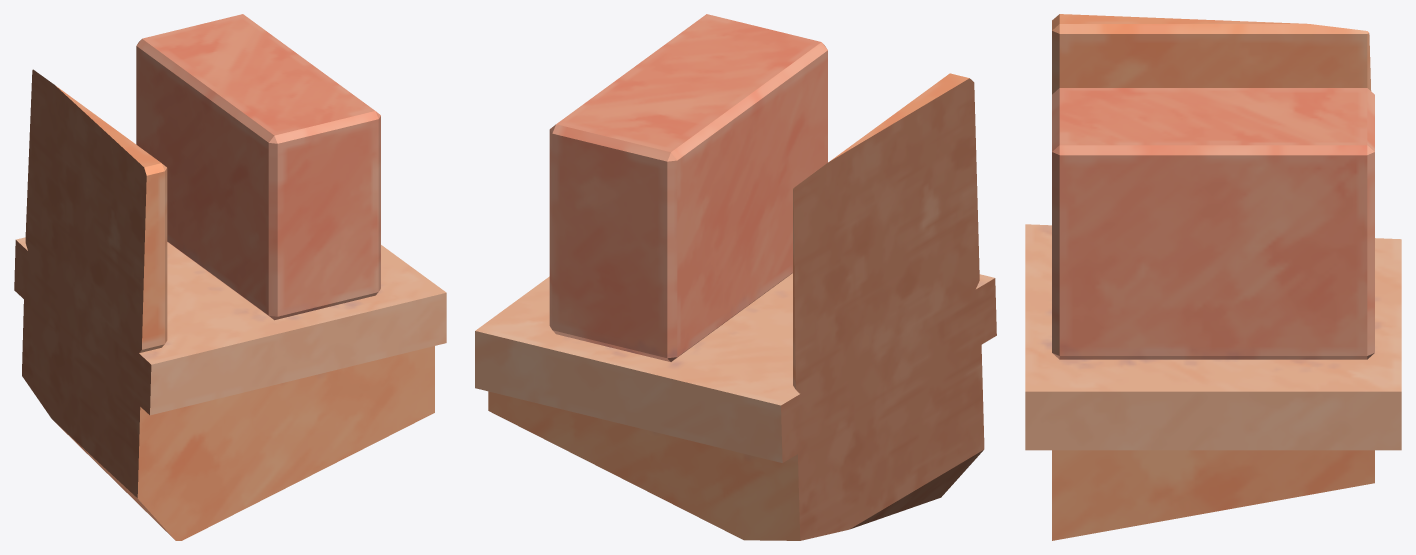
The model's file is townwall_s04.fbx.
3 views of the same model, side by side, from view 1: azimuth 30°, elevation 25°; view 2: azimuth 150°, elevation 25°; view 3: azimuth 270°, elevation 25° (orthographic). The views are drawn at different scales.
Visible parts, largest first — view 1: townwall_s04; view 2: townwall_s04; view 3: townwall_s04.
Part boxes in pixels (x1,y1,x2,y2): townwall_s04: [14, 14, 446, 540]; townwall_s04: [475, 14, 996, 540]; townwall_s04: [1025, 14, 1401, 540].
Bounding box in the file's own units: 3.71 × 4.52 × 3.5.
